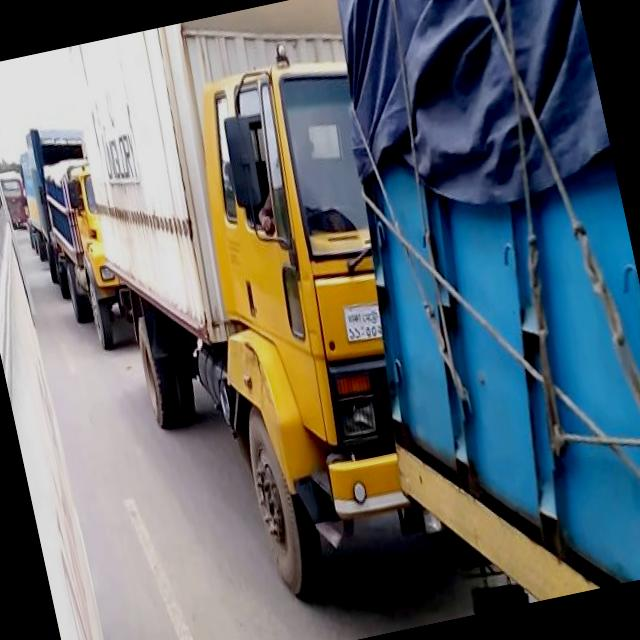bus: (0, 63, 121, 640), (0, 164, 30, 231)
truck: (58, 0, 452, 619), (32, 143, 136, 354), (10, 116, 104, 248)
